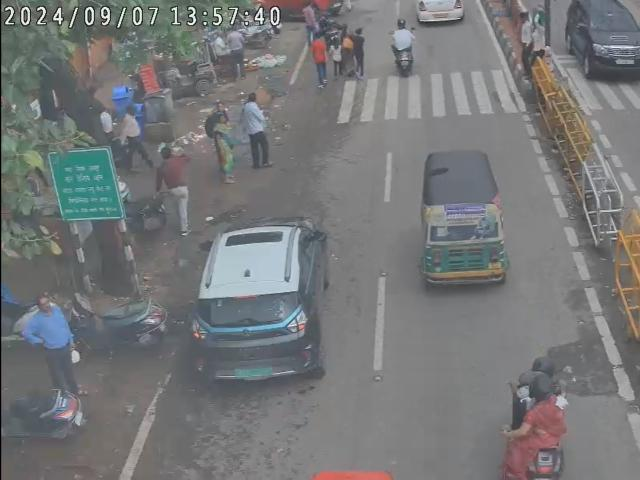auto: (420, 148, 506, 291)
car: (190, 216, 334, 386), (564, 0, 640, 82)
helmet: (526, 374, 558, 404), (528, 357, 558, 376), (398, 20, 410, 30)
motorbike-rider: (302, 1, 322, 40)
person: (23, 294, 86, 404), (152, 142, 190, 239), (240, 89, 275, 171), (214, 111, 238, 184), (226, 25, 247, 80), (347, 24, 368, 78), (312, 30, 329, 86)
scooty-rider: (498, 353, 571, 480), (390, 18, 418, 74)
